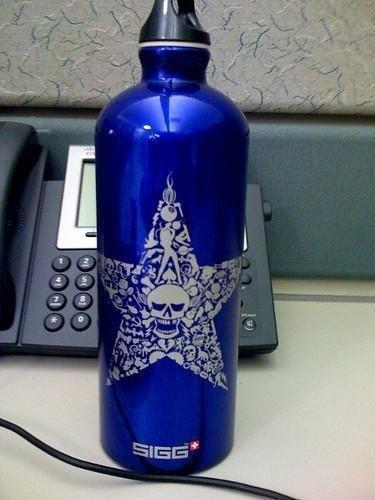gym bottle: (94, 1, 251, 476)
